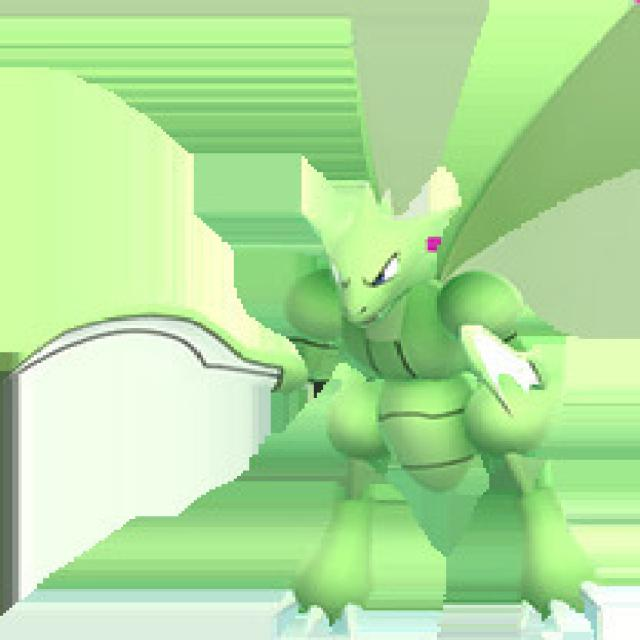Scyther: (247, 173, 601, 640)
